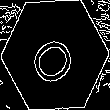O_NE: (26, 23, 84, 87)
